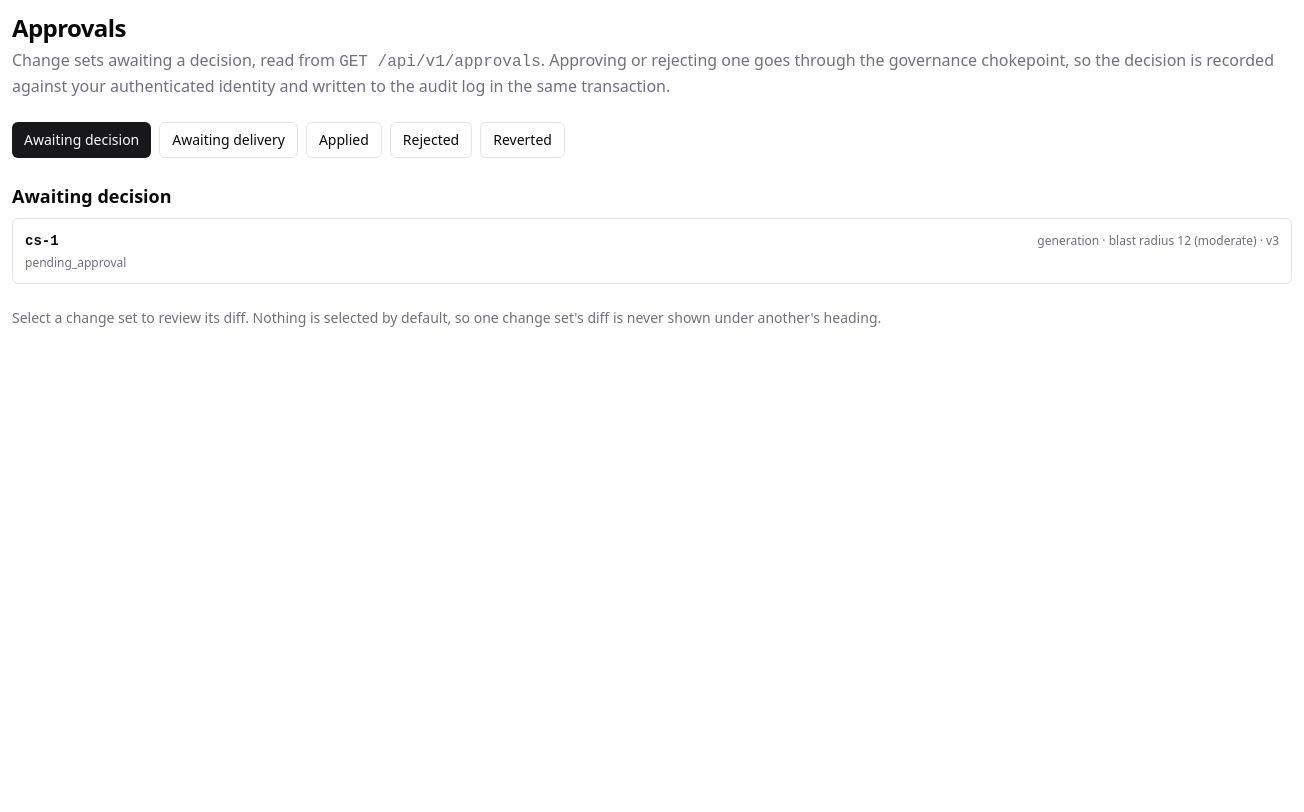
Test: Approvals renders a real diff and submits a real decision › renders the diff of the change items, not a pre-flattened string
This screenshot has width=1304, height=812.
Step 1. Click the button "cs-1" → (42, 241), box x1=12 y1=218 x2=1292 y2=284
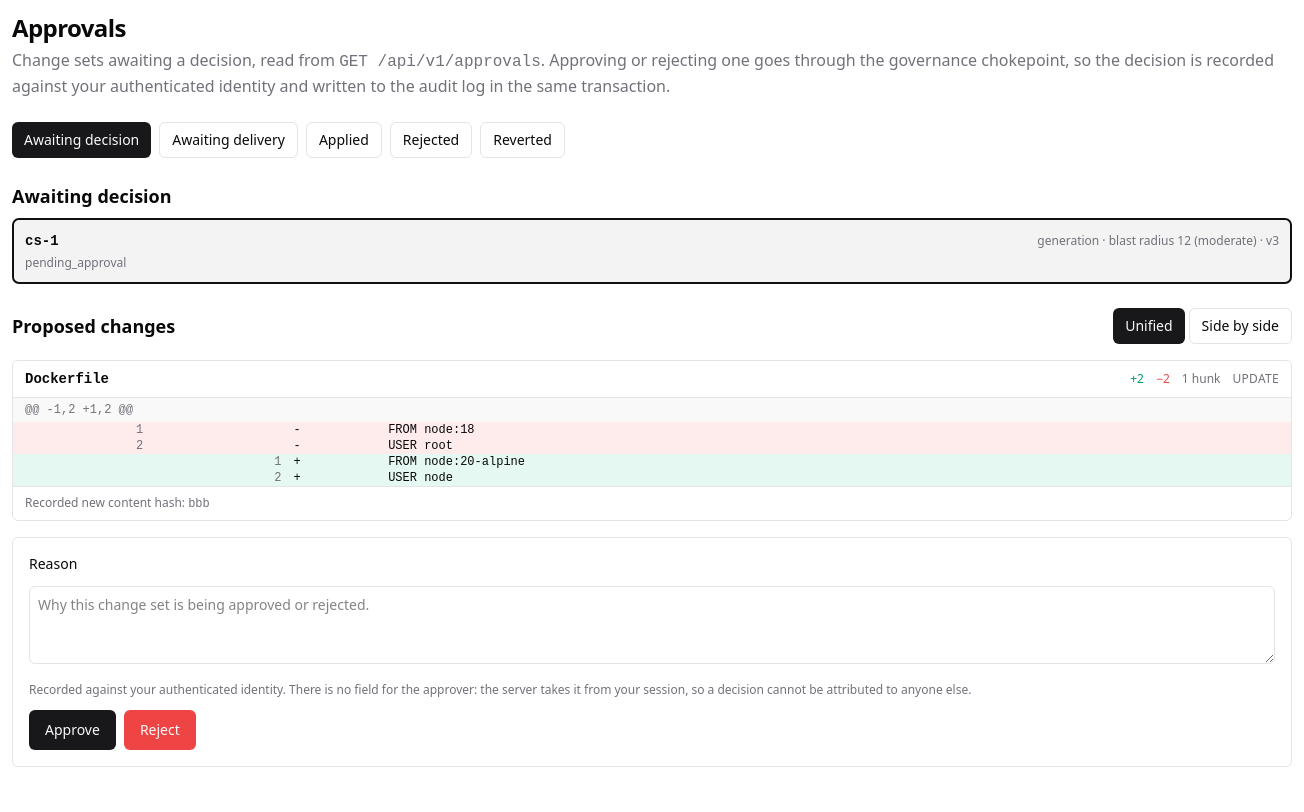
Result: the element named "diff for Dockerfile" shows "FROM node:18" at x1=388 y1=423 x2=475 y2=437
Result: the element named "diff for Dockerfile" shows "FROM node:20-alpine" at x1=388 y1=455 x2=525 y2=469
Result: the element named "diff for Dockerfile" shows "bbb" at x1=188 y1=497 x2=210 y2=511
